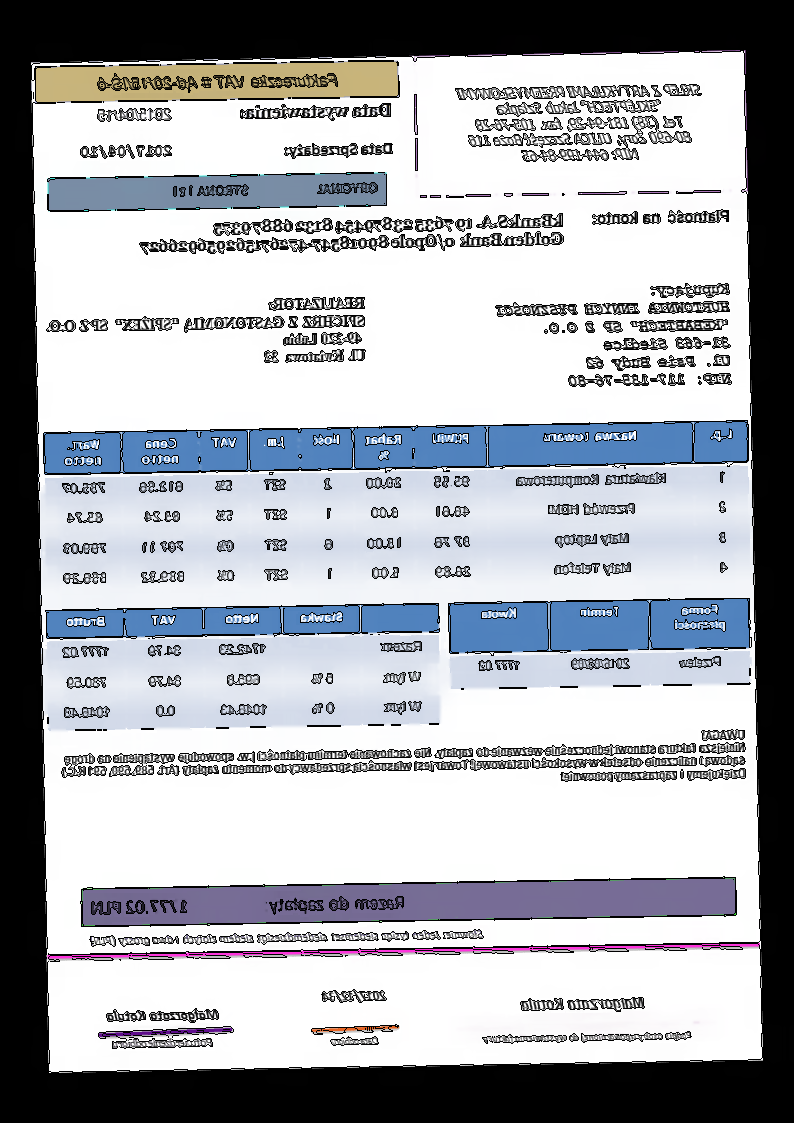Table: (42, 417, 753, 600), (45, 601, 445, 734), (447, 596, 752, 690)
TextBox: (58, 724, 749, 795), (492, 278, 737, 391), (42, 292, 370, 370), (452, 75, 707, 169), (136, 209, 568, 257), (84, 925, 486, 949), (90, 888, 409, 918), (91, 67, 343, 94), (170, 177, 381, 202), (479, 1027, 698, 1047), (235, 97, 395, 123), (588, 206, 736, 230), (517, 989, 648, 1015), (278, 137, 398, 162), (101, 1003, 225, 1025), (76, 138, 176, 162), (96, 100, 177, 127), (108, 1035, 219, 1052), (320, 986, 389, 1005), (328, 1033, 383, 1051)
